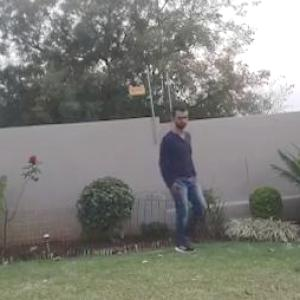follow: (148, 102, 203, 258)
